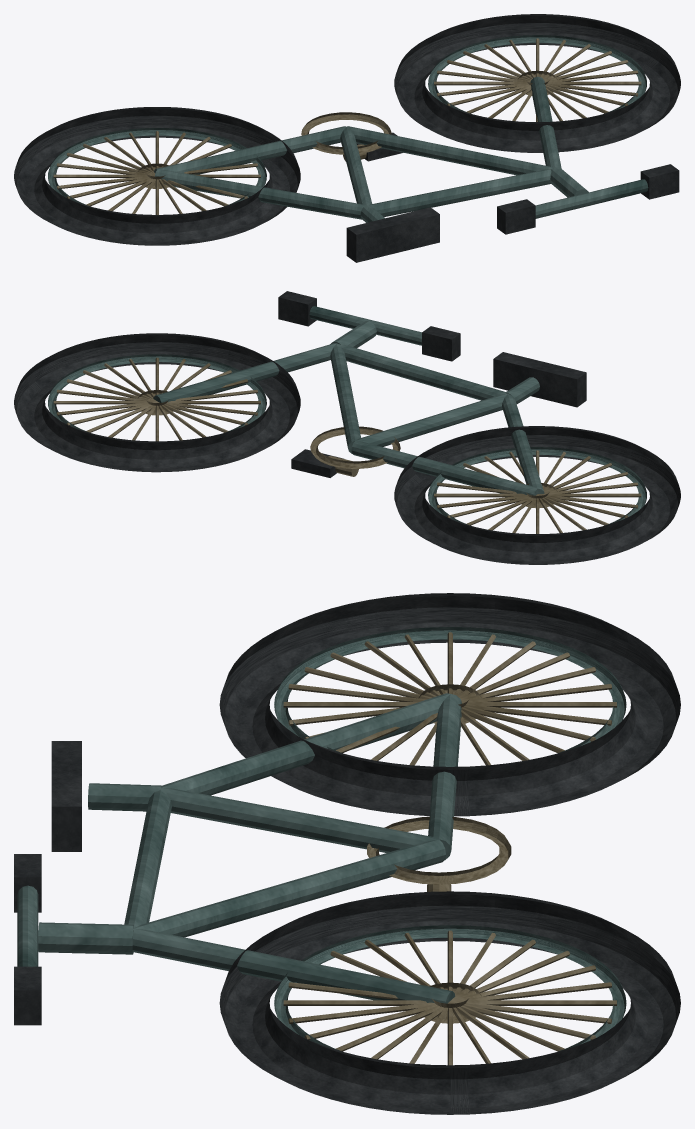
Rendered from KAL-01_v03_Bicycle_Fallen_Hero.glb.
3 views of the same model, one above another, from view 1: azimuth 30°, elevation 25°; view 2: azimuth 150°, elevation 25°; view 3: azimuth 270°, elevation 25° (orthographic). The views are drawn at different scales.
Visible parts, largest first — view 1: MAT_Rubber, MAT_PaintedMetal, MAT_Bronze; view 2: MAT_Rubber, MAT_PaintedMetal, MAT_Bronze; view 3: MAT_Rubber, MAT_PaintedMetal, MAT_Bronze.
Boxes of the visible parts, left/top/right/bottom form: MAT_Rubber: left=14, top=14, right=680, bottom=262; MAT_PaintedMetal: left=48, top=35, right=648, bottom=222; MAT_Bronze: left=53, top=38, right=641, bottom=214; MAT_Rubber: left=14, top=291, right=680, bottom=564; MAT_PaintedMetal: left=48, top=306, right=646, bottom=525; MAT_Bronze: left=53, top=357, right=641, bottom=533; MAT_Rubber: left=14, top=593, right=680, bottom=1114; MAT_PaintedMetal: left=17, top=627, right=626, bottom=1051; MAT_Bronze: left=283, top=632, right=616, bottom=1065.
Bounding box in the file's own units: 2.1 × 0.137 × 1.2.
3 materials, 3 textured.
